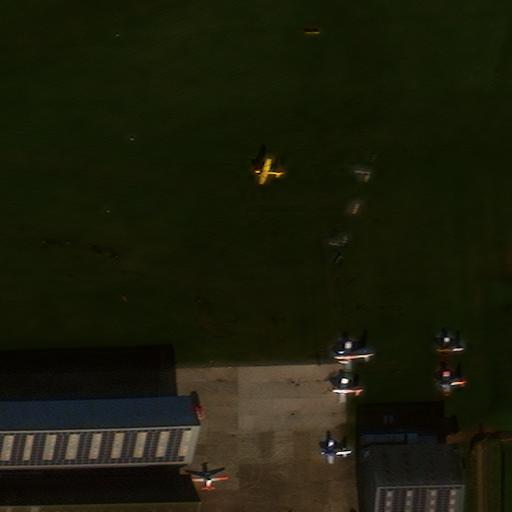Small Civil Transport: (333, 341, 375, 370), (331, 377, 364, 402), (254, 157, 284, 184), (435, 336, 465, 363), (187, 472, 227, 492), (436, 371, 468, 396), (320, 439, 352, 463)
